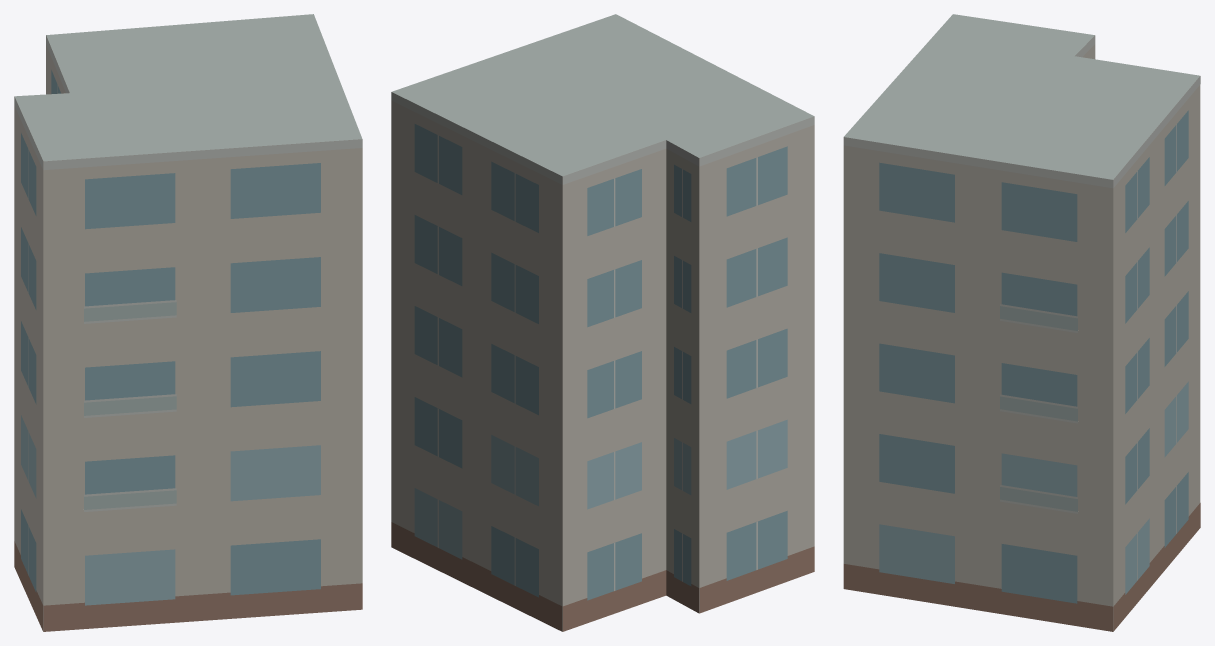
Rendered from survey-upis-32870187.glb.
3 renders of one model, left to right at view 1: azimuth 30°, elevation 25°; view 2: azimuth 150°, elevation 25°; view 3: azimuth 270°, elevation 25°, orthographic. The views are drawn at different scales.
Visible parts, largest first — view 1: survey-upis-32870187.tmp; view 2: survey-upis-32870187.tmp; view 3: survey-upis-32870187.tmp.
Part boxes in pixels (bbox=[...]): survey-upis-32870187.tmp: bbox=[14, 14, 362, 631]; survey-upis-32870187.tmp: bbox=[391, 14, 814, 631]; survey-upis-32870187.tmp: bbox=[843, 14, 1200, 631].
Bounding box in the file's own units: 10.24 × 13 × 9.31.
